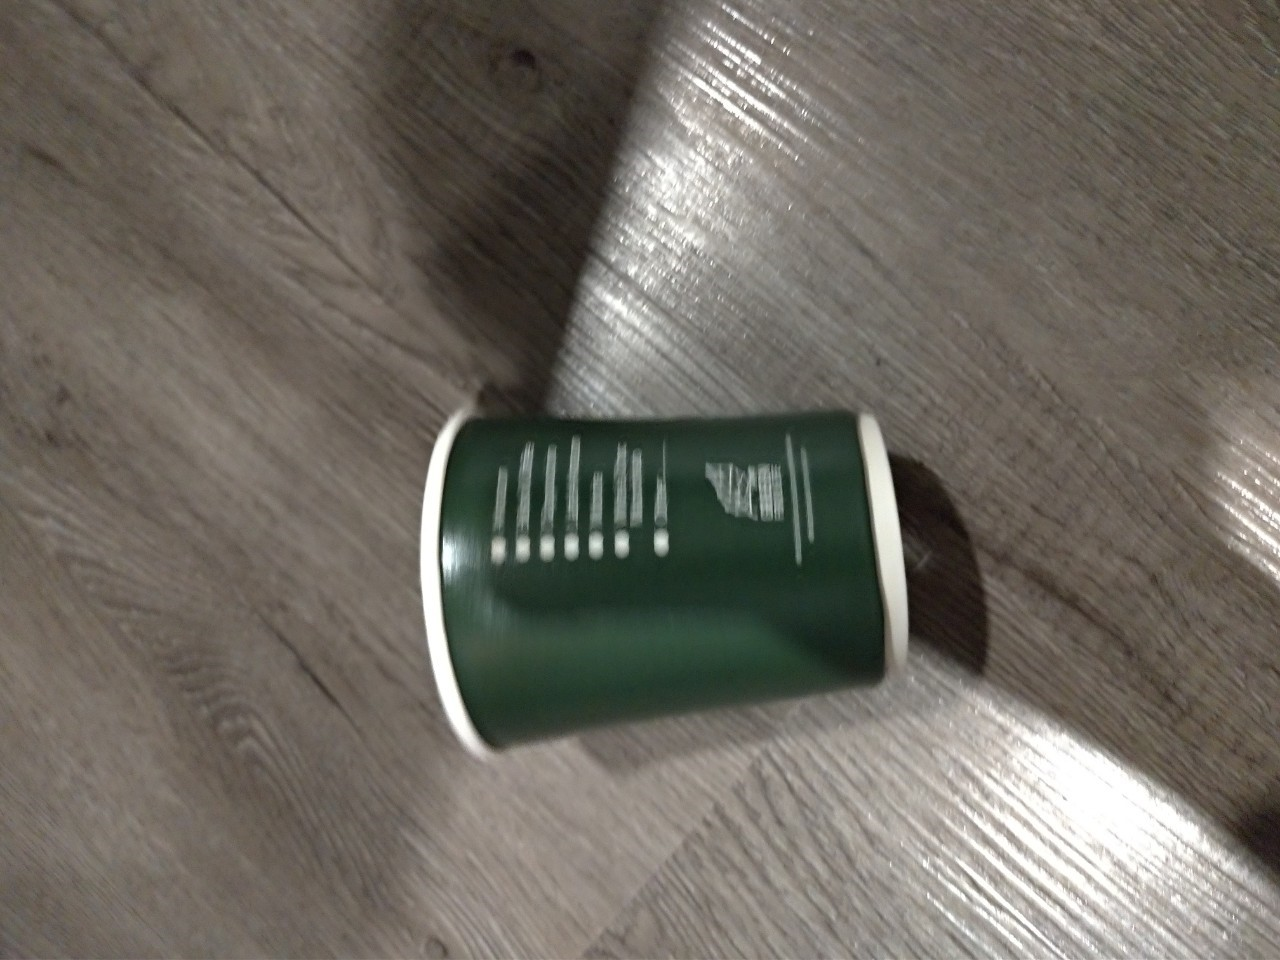PaperCup: (415, 392, 910, 768)
